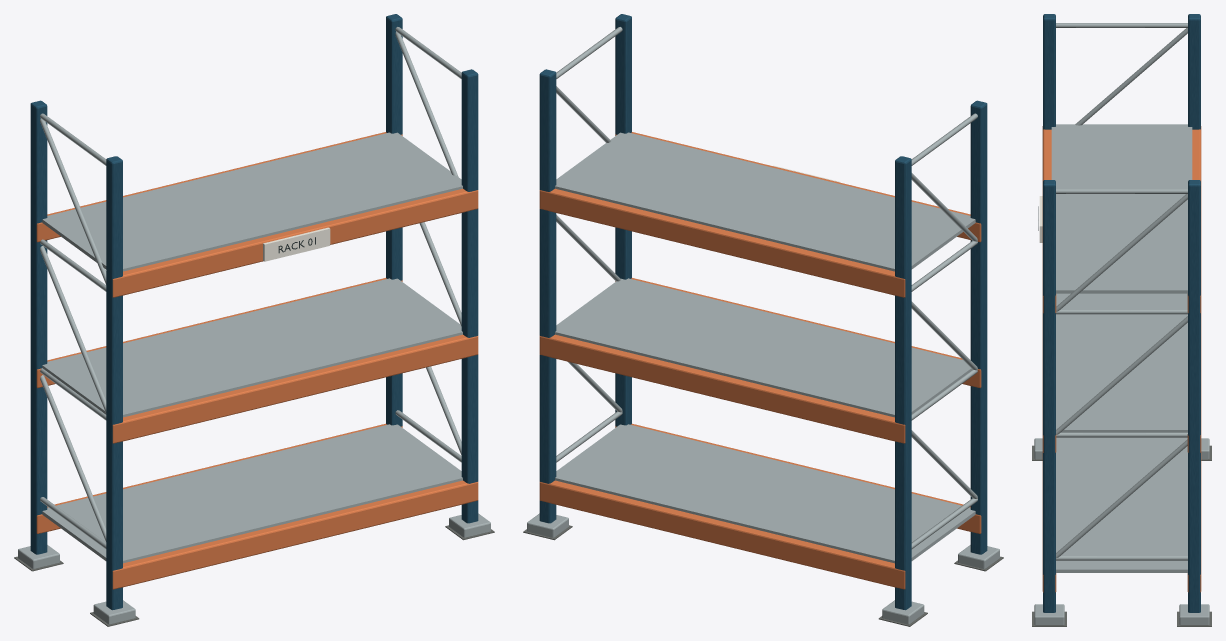
File: rack.glb
3 renders of one model, left to right at view 1: azimuth 30°, elevation 25°; view 2: azimuth 150°, elevation 25°; view 3: azimuth 270°, elevation 25°, orthographic. The views are drawn at different scales.
Parts seen in each view (by area): view 1: Brushed Steel, Rack Orange, Blue Painted Steel PBR, Label Stock; view 2: Brushed Steel, Rack Orange, Blue Painted Steel PBR; view 3: Brushed Steel, Blue Painted Steel PBR, Rack Orange, Opaque Contact Detail.
Part boxes in pixels (left/top/right/bottom): Brushed Steel: left=18, top=27, right=490, bottom=624; Rack Orange: left=36, top=132, right=478, bottom=589; Blue Painted Steel PBR: left=30, top=14, right=478, bottom=610; Label Stock: left=263, top=227, right=330, bottom=261; Brushed Steel: left=527, top=27, right=999, bottom=624; Rack Orange: left=539, top=132, right=981, bottom=589; Blue Painted Steel PBR: left=539, top=14, right=987, bottom=610; Brushed Steel: left=1034, top=23, right=1209, bottom=625; Blue Painted Steel PBR: left=1043, top=14, right=1200, bottom=612; Rack Orange: left=1042, top=126, right=1201, bottom=592; Opaque Contact Detail: left=1032, top=445, right=1211, bottom=626.
Bounding box in the file's own units: 2.83 × 3.2 × 1.19.
6 materials, 1 textured.
